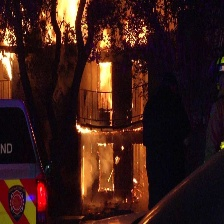fire: (68, 121, 149, 206), (38, 1, 95, 40), (99, 25, 128, 95), (2, 23, 19, 80)
